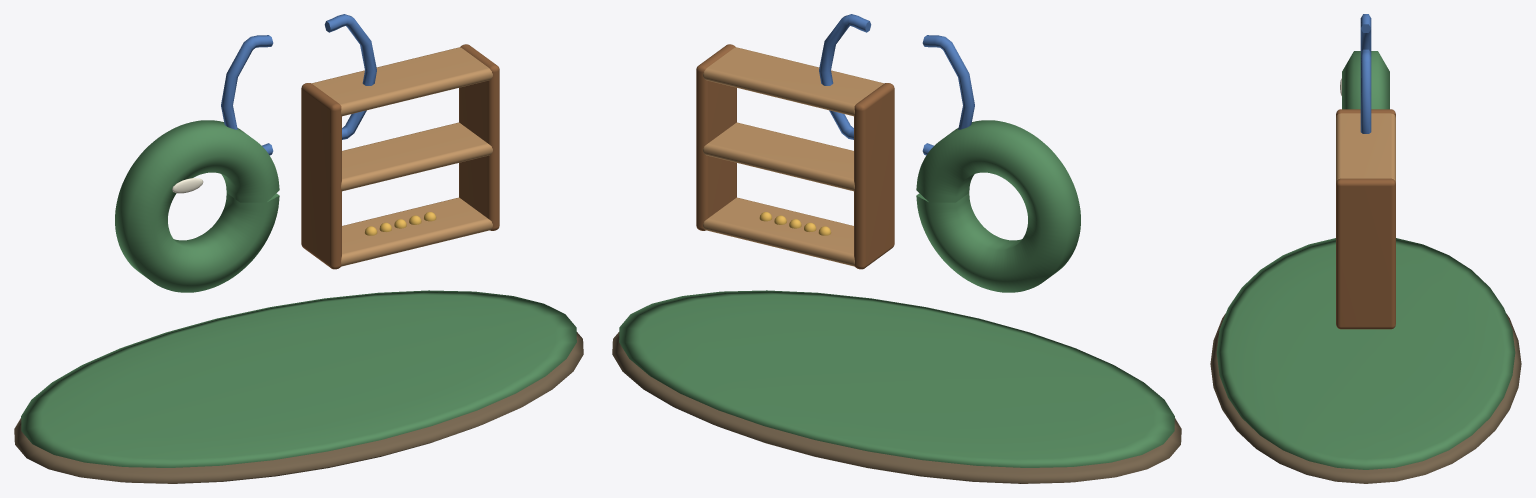
The model's file is complete-second-whole-departments.glb.
3 renders of one model, left to right at view 1: azimuth 30°, elevation 25°; view 2: azimuth 150°, elevation 25°; view 3: azimuth 270°, elevation 25°, orthographic. The views are drawn at different scales.
Parts seen in each view (by area): view 1: complete-second-whole-departments_surface_01, complete-second-whole-departments_surface_03, complete-second-whole-departments_surface_04, complete-second-whole-departments_surface_00, complete-second-whole-departments_surface_06; view 2: complete-second-whole-departments_surface_01, complete-second-whole-departments_surface_03, complete-second-whole-departments_surface_04, complete-second-whole-departments_surface_00, complete-second-whole-departments_surface_06; view 3: complete-second-whole-departments_surface_01, complete-second-whole-departments_surface_04, complete-second-whole-departments_surface_00, complete-second-whole-departments_surface_03, complete-second-whole-departments_surface_06.
Boxes of the visible parts, left/top/right/bottom form: complete-second-whole-departments_surface_01: left=21, top=120, right=576, bottom=467; complete-second-whole-departments_surface_03: left=312, top=47, right=492, bottom=266; complete-second-whole-departments_surface_04: left=301, top=44, right=499, bottom=269; complete-second-whole-departments_surface_00: left=14, top=332, right=583, bottom=483; complete-second-whole-departments_surface_06: left=221, top=14, right=376, bottom=155; complete-second-whole-departments_surface_01: left=619, top=120, right=1174, bottom=467; complete-second-whole-departments_surface_03: left=703, top=47, right=883, bottom=266; complete-second-whole-departments_surface_04: left=696, top=44, right=894, bottom=269; complete-second-whole-departments_surface_00: left=612, top=332, right=1181, bottom=483; complete-second-whole-departments_surface_06: left=819, top=14, right=974, bottom=155; complete-second-whole-departments_surface_01: left=1216, top=51, right=1515, bottom=469; complete-second-whole-departments_surface_04: left=1336, top=109, right=1395, bottom=329; complete-second-whole-departments_surface_00: left=1210, top=313, right=1521, bottom=483; complete-second-whole-departments_surface_03: left=1336, top=113, right=1395, bottom=182; complete-second-whole-departments_surface_06: left=1360, top=14, right=1371, bottom=133.
Bounding box in the file's own units: 4.56 × 3.05 × 2.5.
